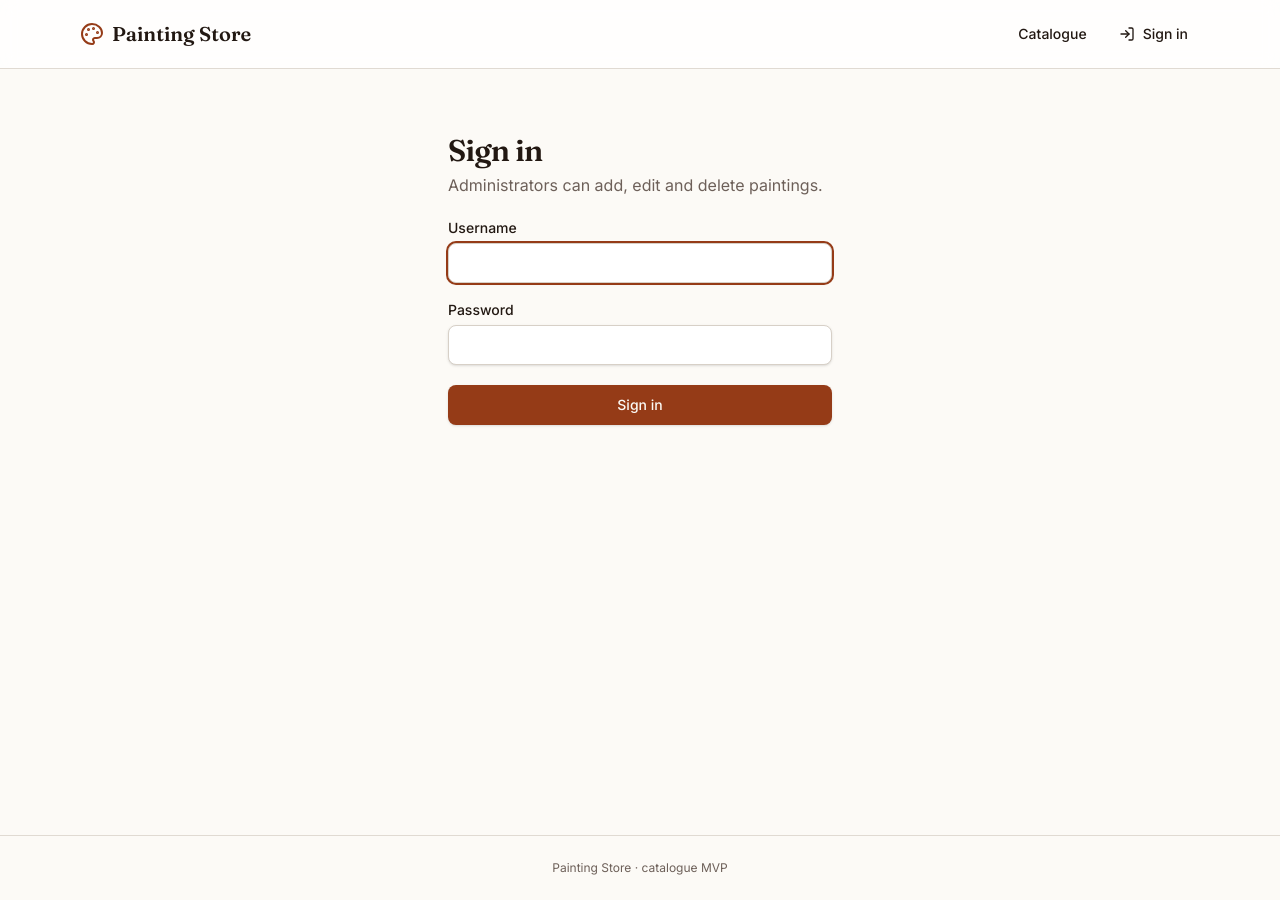
sign-in page › shows a clear message for wrong credentials and stays signed out
In the field labelled "Username": (640, 263) left=448, top=243, right=832, bottom=283, type "boss"
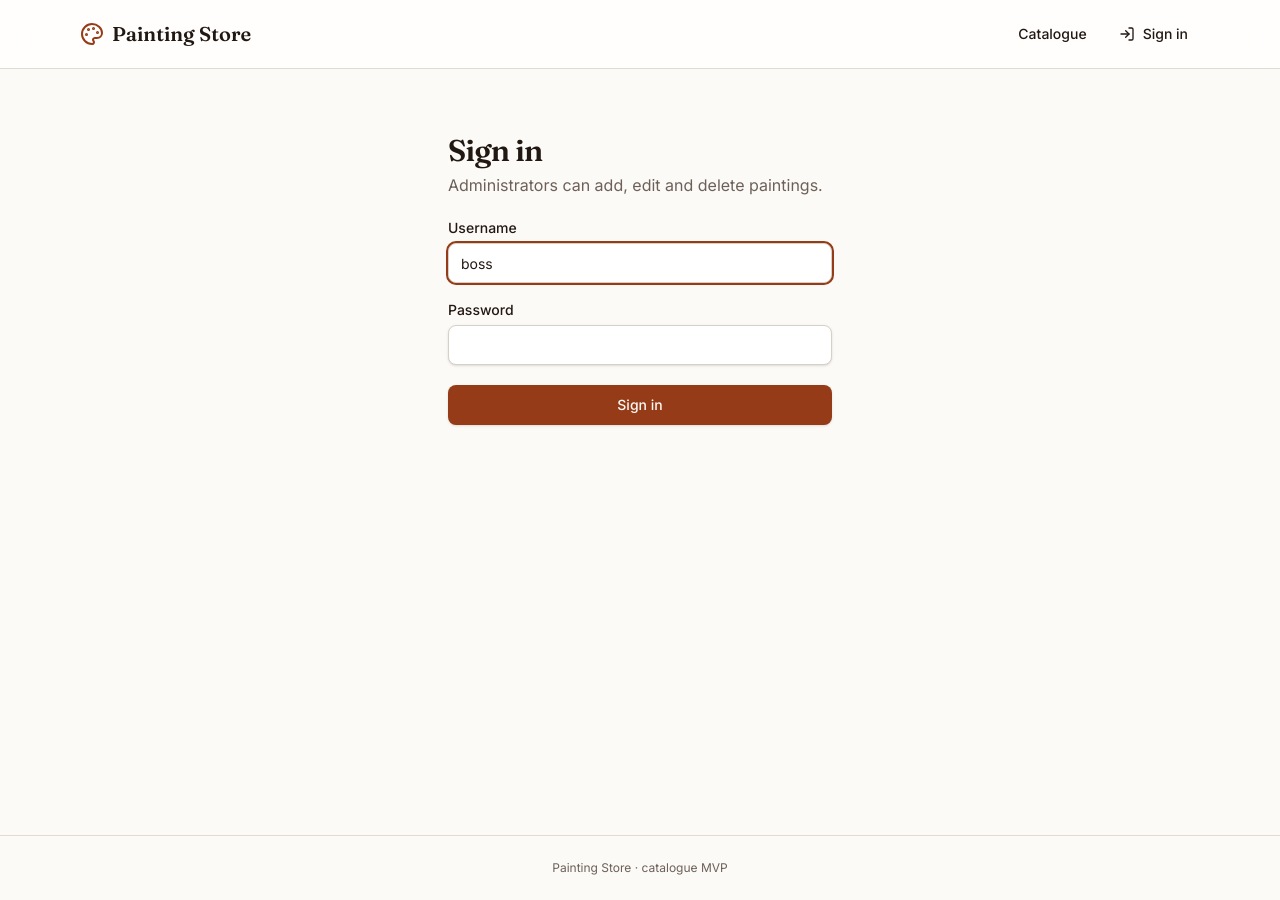
In the password field labelled "Password": (640, 345) left=448, top=325, right=832, bottom=365, type "nope"
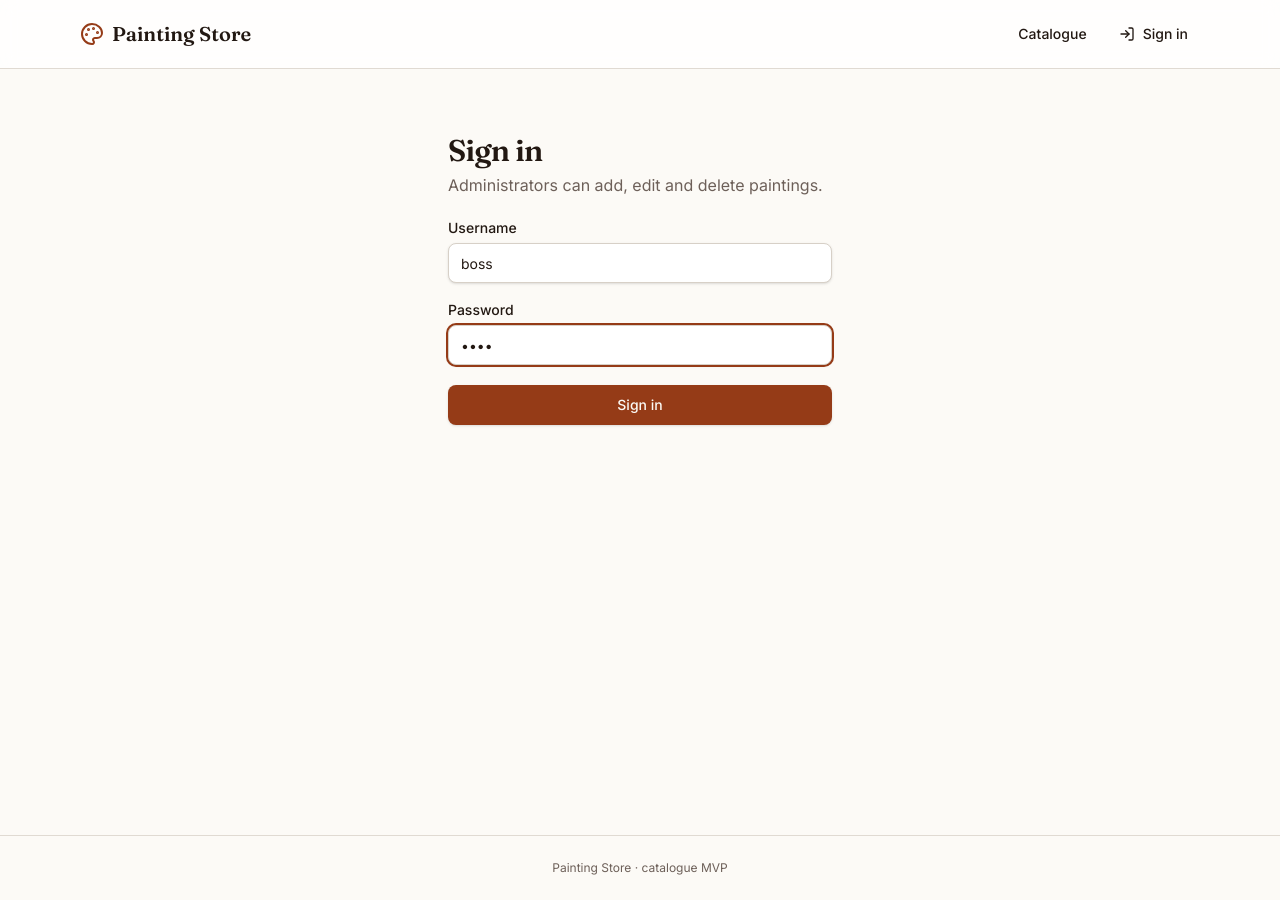
Click the button "Sign in": (640, 405) left=448, top=385, right=832, bottom=425
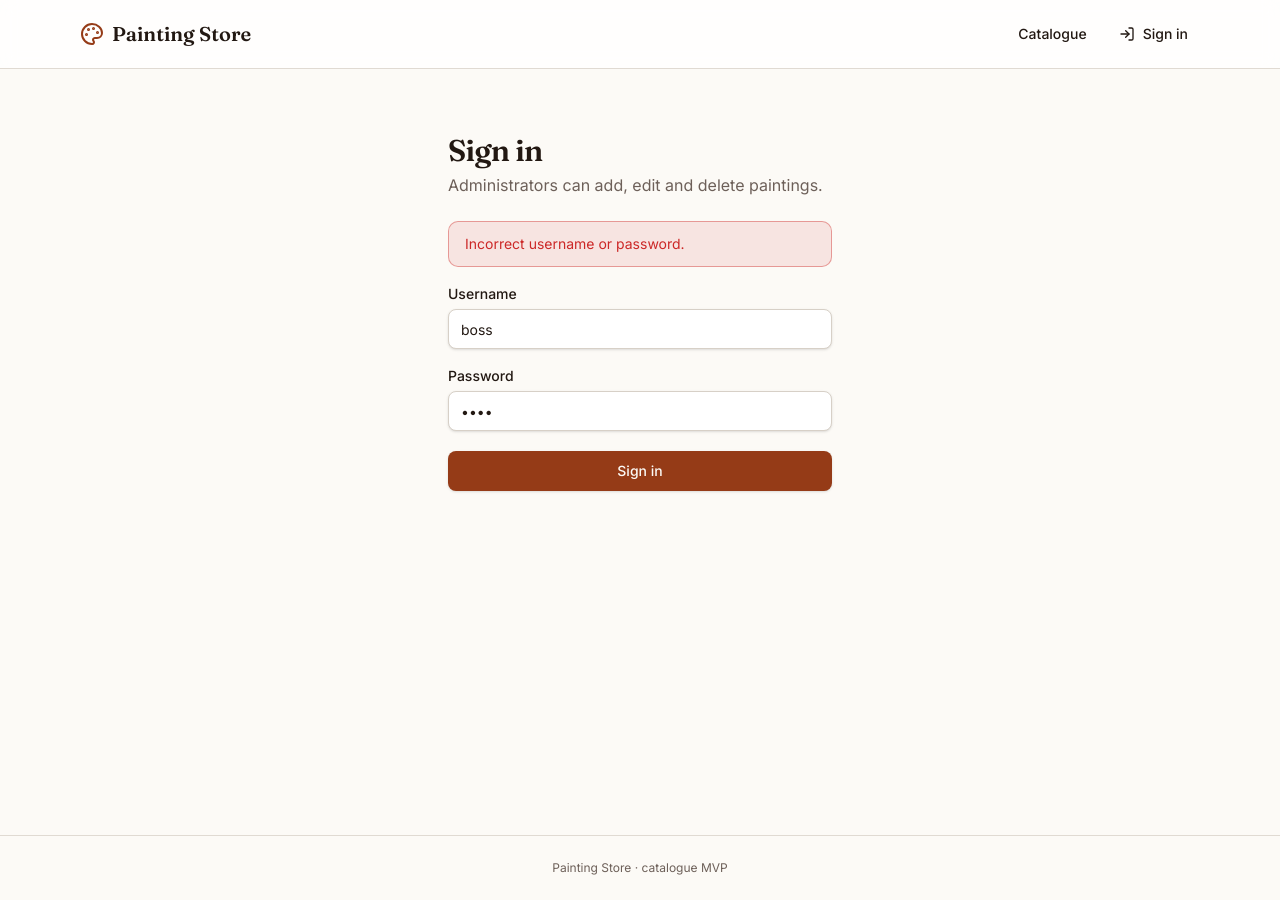
Expected: the button "Sign in" is enabled, left=448, top=451, right=832, bottom=491
Now the message reads "Incorrect username or password.", box left=465, top=235, right=685, bottom=252
